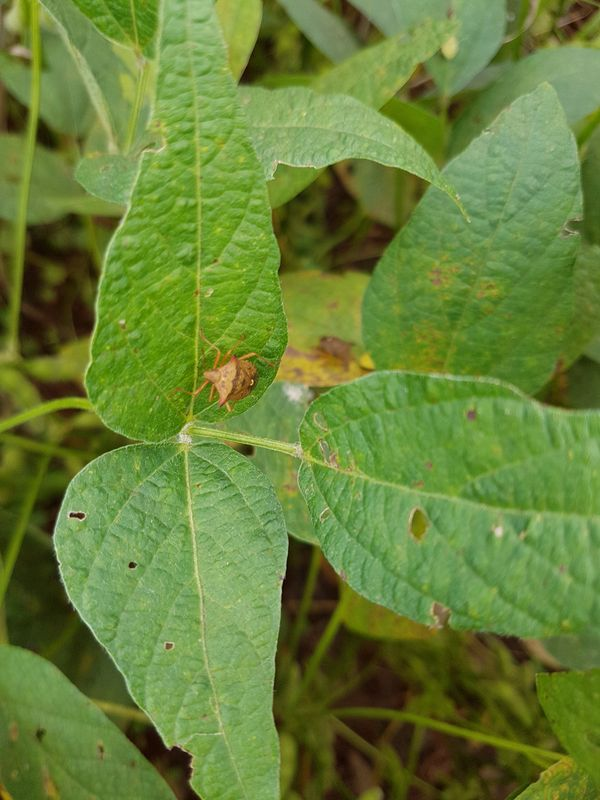Euschistus_heros_adulto: (186, 333, 271, 416), (311, 326, 363, 375)
